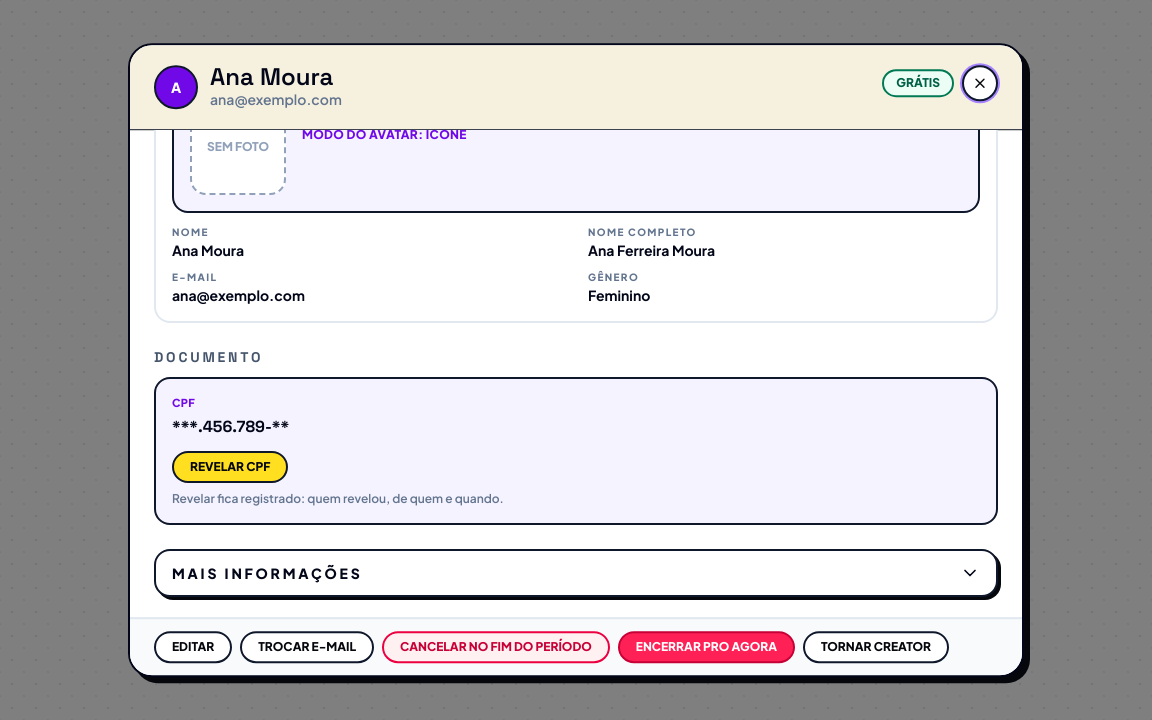
nenhum campo visivel desapareceu no redesign › os VALORES continuam aparecendo, nao so os rotulos
(page scrolled)
Expected: the text "Ana Ferreira Moura" is shown, [588,241,715,259]
Click the button "Mais informações": (267, 573) [154,549,998,597]
(page scrolled)
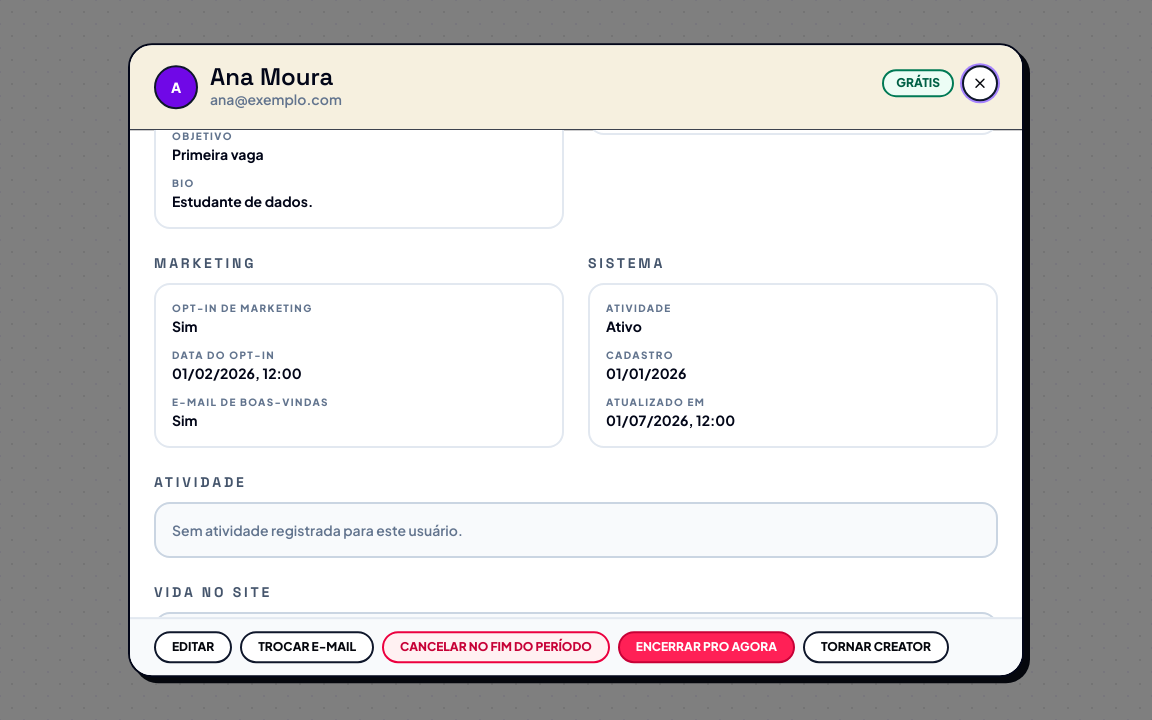
Expected: the text "Ativo" is shown, [606,317,642,335]
Expected: the text "01/02/2026, 12:00" is shown, [172,364,302,382]
